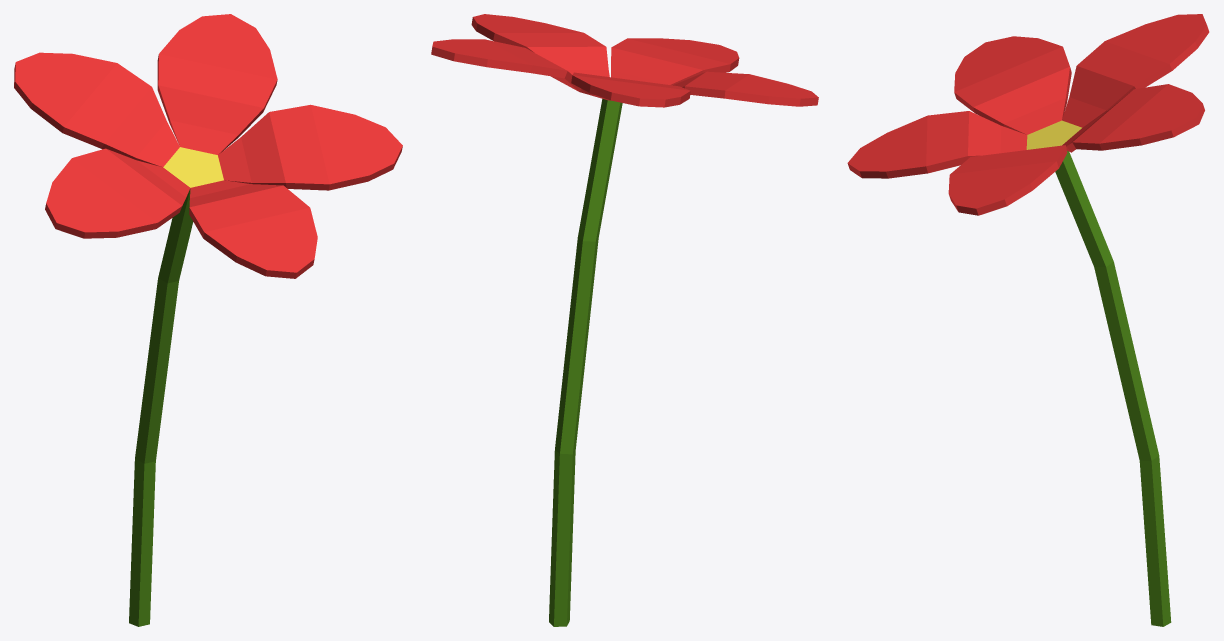
Rendered from FloatingIsland_Dif3_Sc2.fbx.
3 views of the same model, side by side, from view 1: azimuth 30°, elevation 25°; view 2: azimuth 150°, elevation 25°; view 3: azimuth 270°, elevation 25° (orthographic).
Visible parts, largest first — view 1: FloatingIsland_Dif3_Sc2; view 2: FloatingIsland_Dif3_Sc2; view 3: FloatingIsland_Dif3_Sc2.
Part boxes in pixels (x1=…): FloatingIsland_Dif3_Sc2: x1=14, y1=14, x2=402, y2=626; FloatingIsland_Dif3_Sc2: x1=431, y1=14, x2=818, y2=626; FloatingIsland_Dif3_Sc2: x1=847, y1=14, x2=1209, y2=626.
Size of the model in its own units: 0.1649 by 0.1541 by 0.2633.
